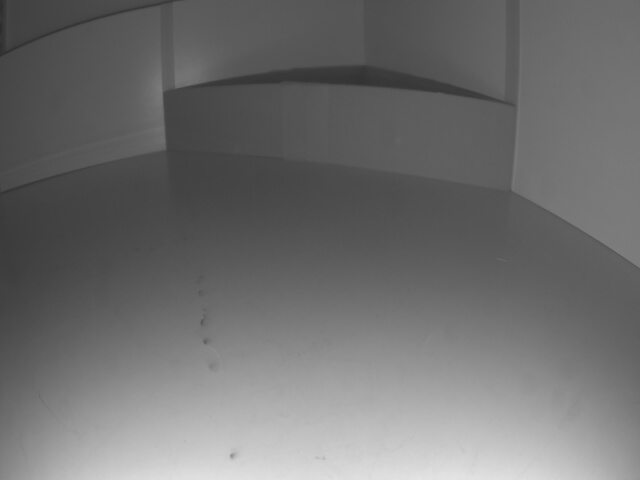Point: (164, 91, 514, 192)
